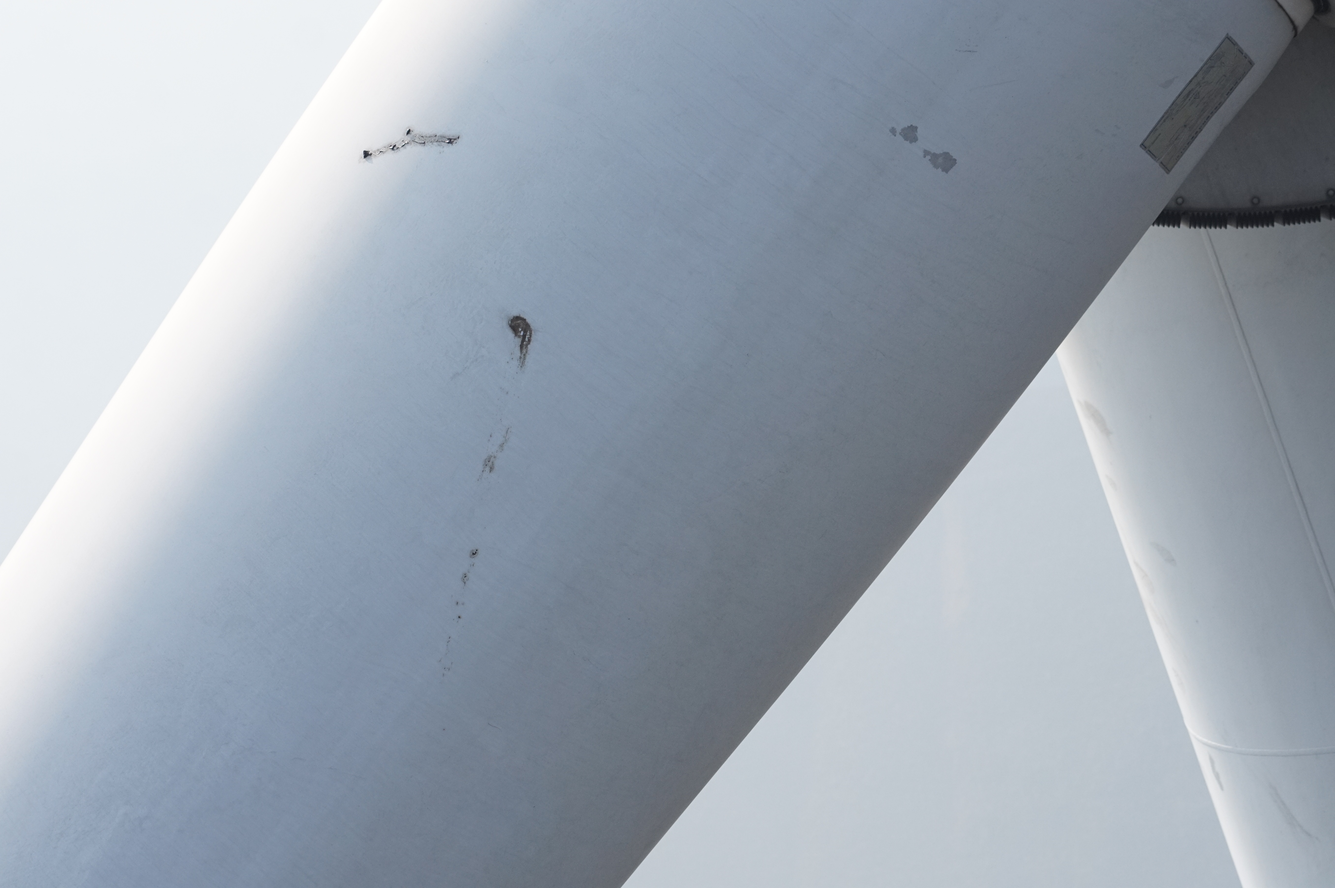Dirt: (360, 126, 461, 161), (506, 314, 533, 369)
